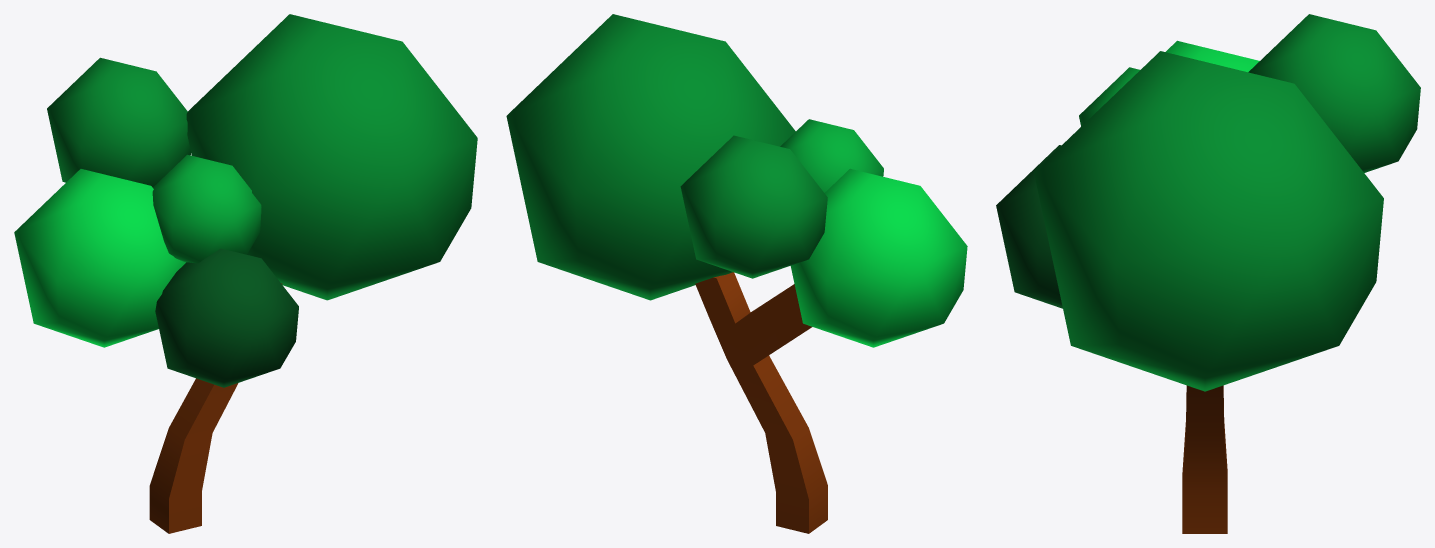
Rendered from Tree.fbx.
3 renders of one model, left to right at view 1: azimuth 30°, elevation 25°; view 2: azimuth 150°, elevation 25°; view 3: azimuth 270°, elevation 25°, orthographic. The views are drawn at different scales.
Visible parts, largest first — view 1: Kugel, Kugel_1, Kugel_3, Kugel_2, Kugel_4, Würfel; view 2: Kugel, Kugel_1, Kugel_2, Würfel, Kugel_4; view 3: Kugel, Kugel_2, Würfel, Kugel_3, Kugel_1, Kugel_4.
Part boxes in pixels (x1,y1,x2,y2): Kugel: (186, 14, 477, 300); Kugel_1: (14, 169, 185, 347); Kugel_3: (155, 248, 298, 387); Kugel_2: (47, 57, 190, 187); Kugel_4: (152, 154, 261, 263); Würfel: (149, 283, 282, 533); Kugel: (506, 14, 795, 300); Kugel_1: (790, 168, 967, 347); Kugel_2: (680, 135, 827, 278); Würfel: (695, 272, 827, 533); Kugel_4: (780, 119, 883, 192); Kugel: (1034, 51, 1383, 391); Kugel_2: (1248, 14, 1420, 172); Würfel: (1182, 385, 1227, 533); Kugel_3: (996, 145, 1062, 308); Kugel_1: (1165, 40, 1259, 72); Kugel_4: (1079, 67, 1139, 126).
Size of the model in its own units: 246 by 267 by 187.
